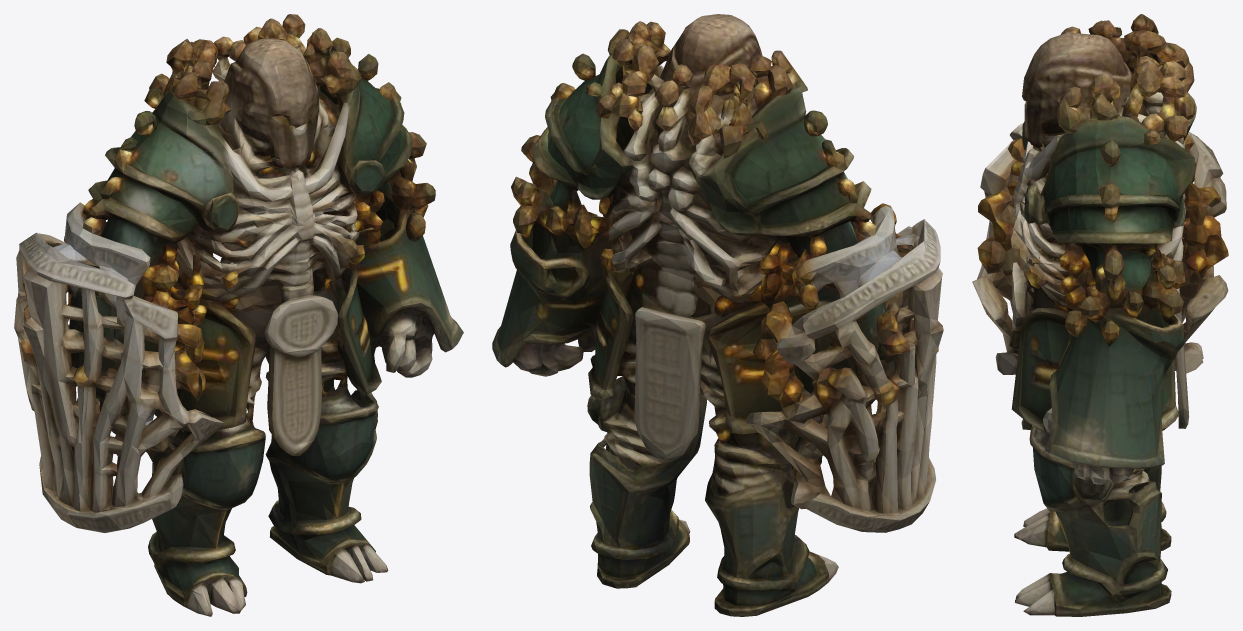
Rendered from brassbone__gashadokuroTitan.glb.
The picture shows the model from 3 angles, left to right: view 1: azimuth 30°, elevation 25°; view 2: azimuth 150°, elevation 25°; view 3: azimuth 270°, elevation 25°; orthographic projection. The views are drawn at different scales.
Visible parts, largest first — view 1: world; view 2: world; view 3: world.
Boxes of the visible parts, bbox=[...] form: world: bbox=[14, 14, 463, 616]; world: bbox=[492, 14, 943, 616]; world: bbox=[972, 14, 1228, 616].
Size of the model in its own units: 0.8472 by 1 by 0.4351.
Materials: 1 (1 with a texture image).
